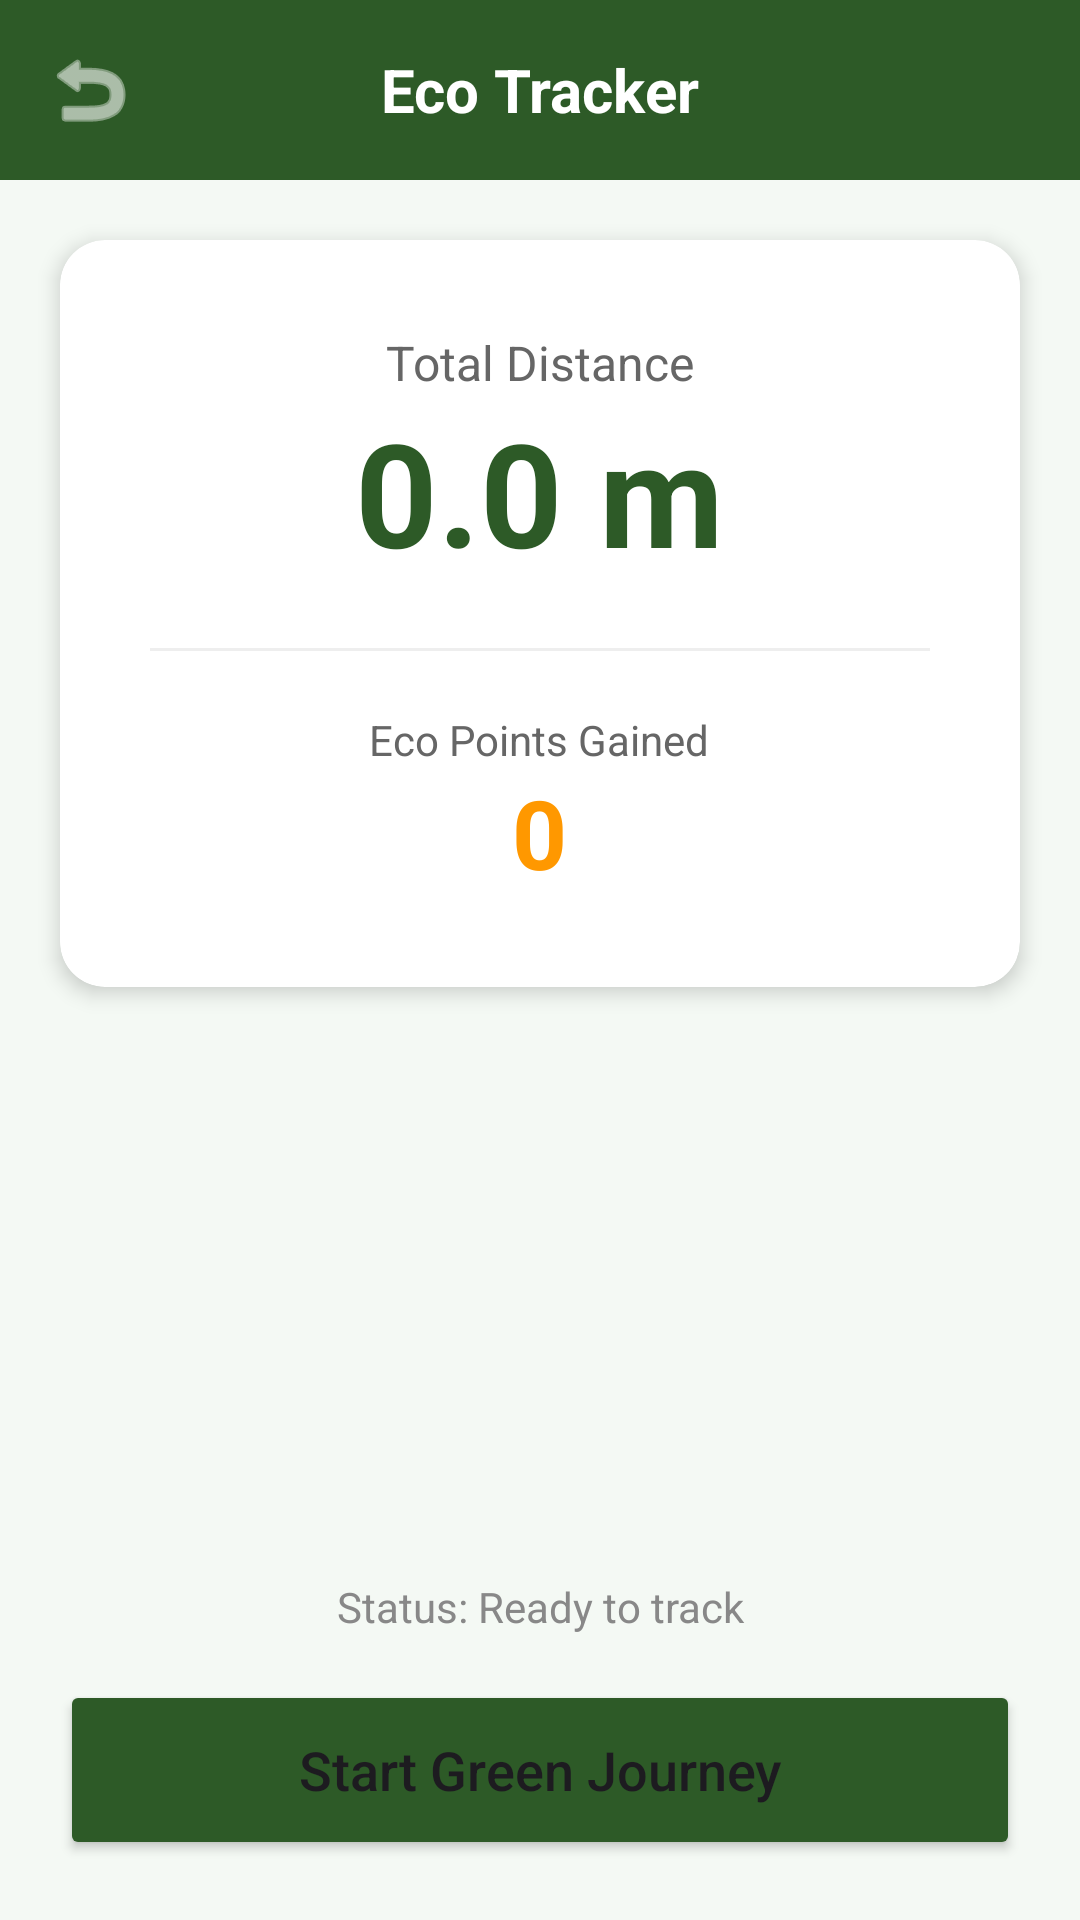

Screen size 1080x1920. Icon name, then its box in pixels as region(x1, y1, x2, y2):
revert: region(57, 59, 126, 122)
